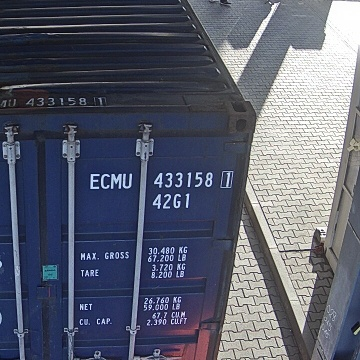serial_id: (90, 172, 231, 189)
